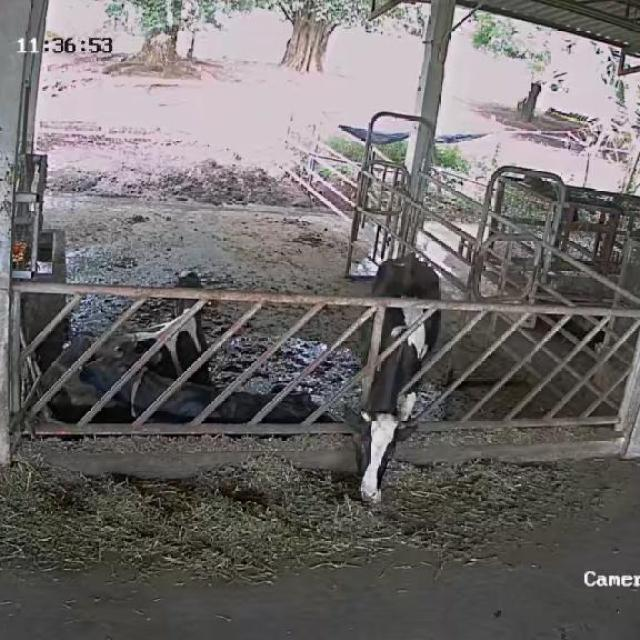feeding: (350, 254, 442, 505)
lying down: (46, 270, 213, 418), (81, 343, 330, 428)
